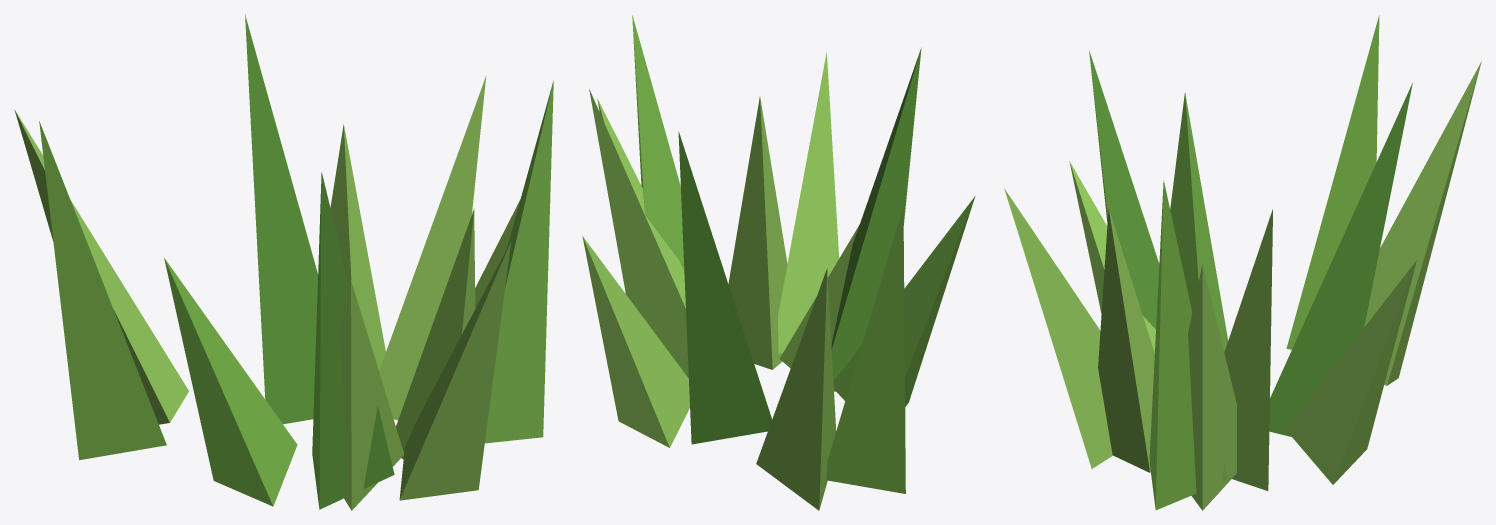
The model's file is grass.glb.
The picture shows the model from 3 angles, left to right: view 1: azimuth 30°, elevation 25°; view 2: azimuth 150°, elevation 25°; view 3: azimuth 270°, elevation 25°; orthographic projection. The views are drawn at different scales.
Visible parts, largest first — view 1: grass; view 2: grass; view 3: grass.
Part boxes in pixels (<box>): grass: <box>14,14,553,510</box>; grass: <box>582,15,975,510</box>; grass: <box>1004,15,1481,510</box>.
Size of the model in its own units: 0.2758 by 0.2374 by 0.2826.
1 material, 1 textured.
